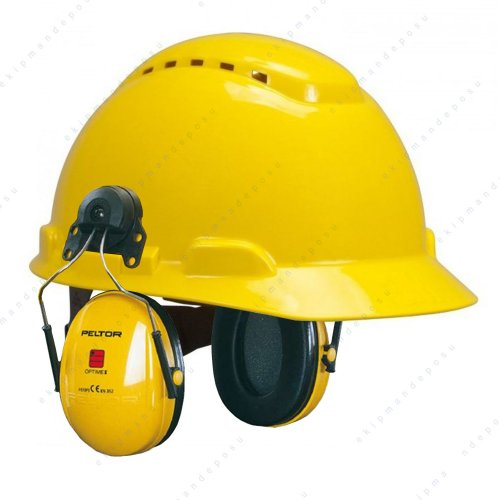baret: (19, 28, 483, 327)
